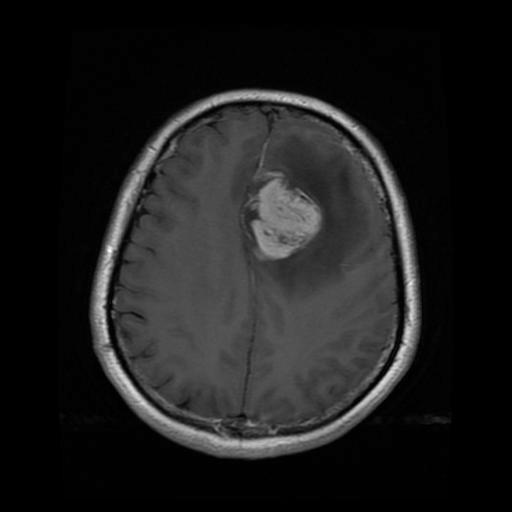Tumour-Meningioma: (227, 157, 341, 306)
